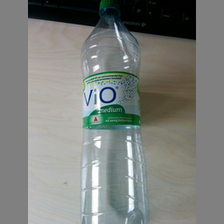water: (79, 1, 147, 224)
